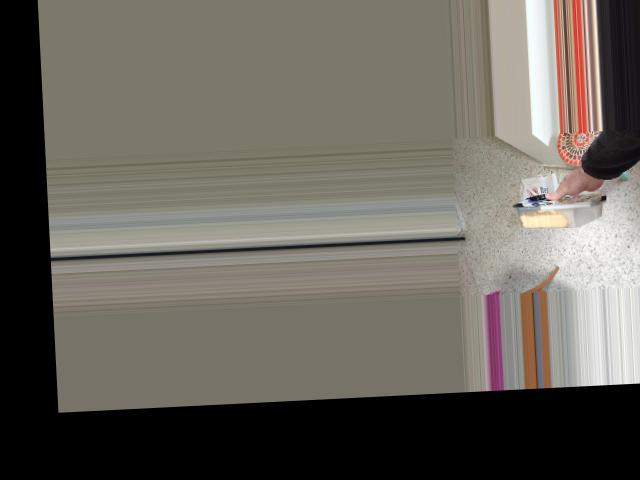cheese: (511, 139, 613, 237)
